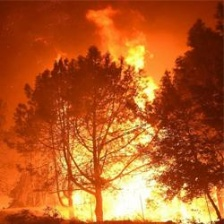fire: (46, 18, 218, 224)
